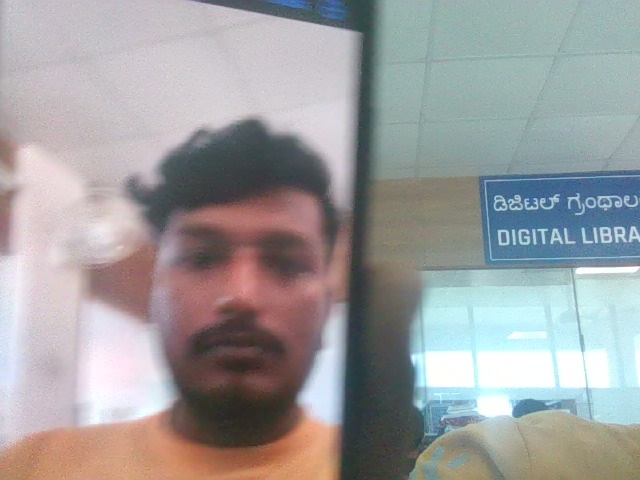fake: (121, 96, 362, 437)
